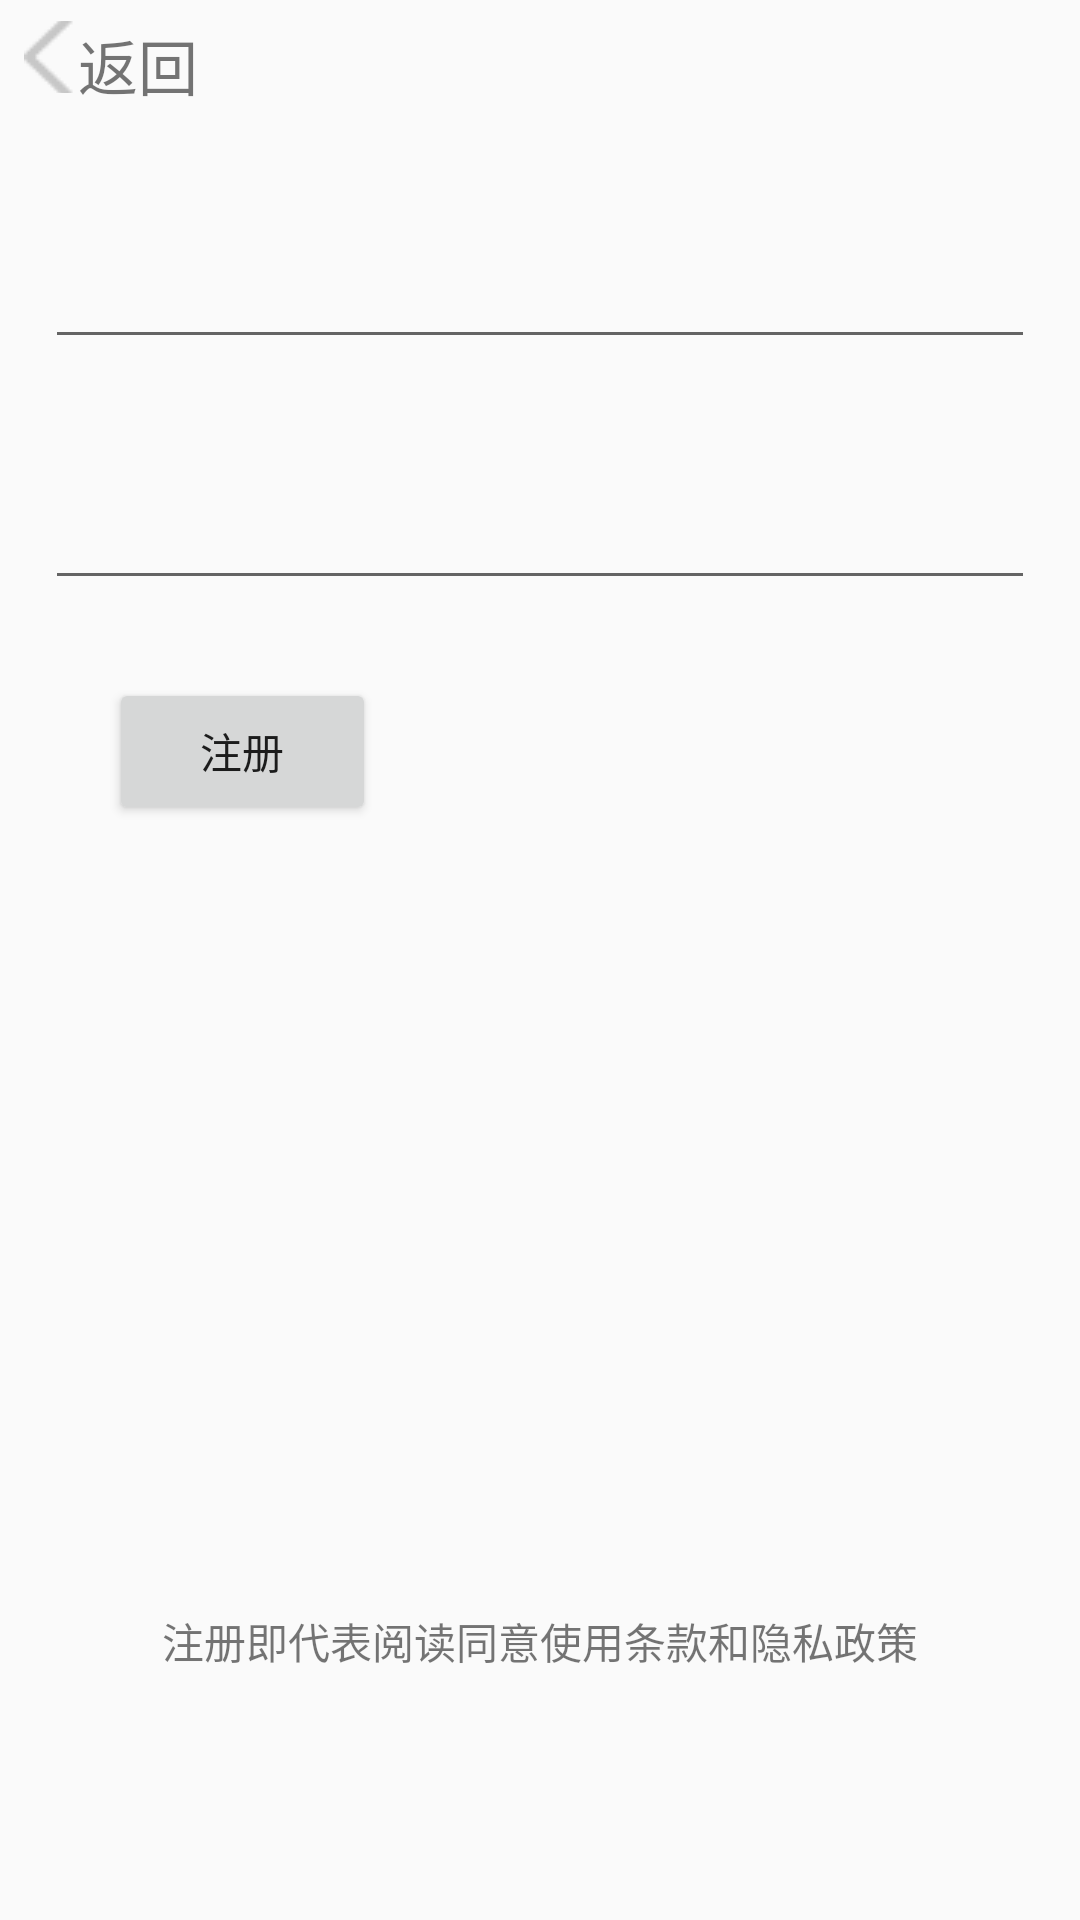

Icon bounding boxes for this 1080w x 1920h phone screenshot, format bbox=(x1, y1, x2, y2):
leftarrow: bbox=(24, 21, 71, 93)
